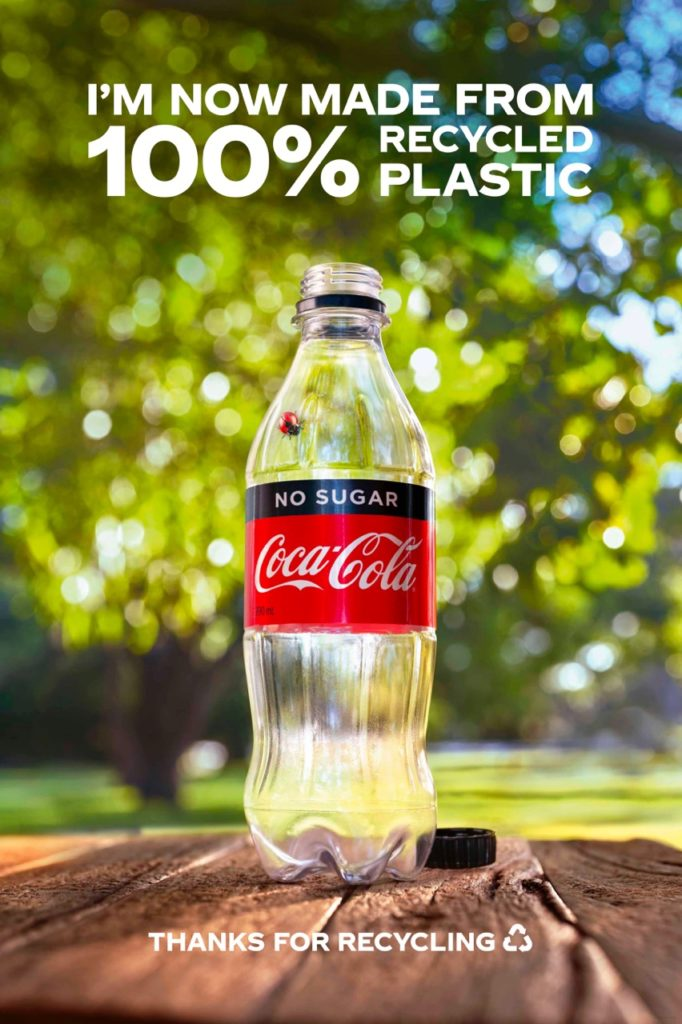plastic_bottle: (165, 173, 552, 959)
